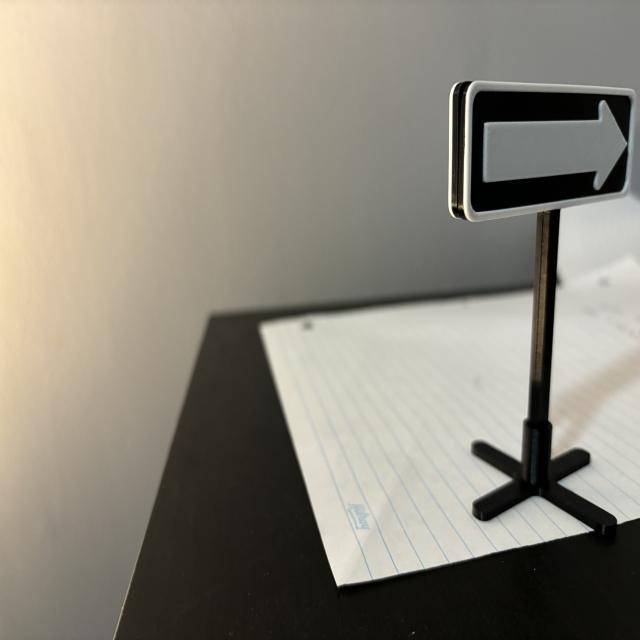sign_oneway_right: (464, 82, 636, 223)
